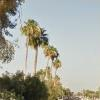Tree: (13, 8, 68, 77)
